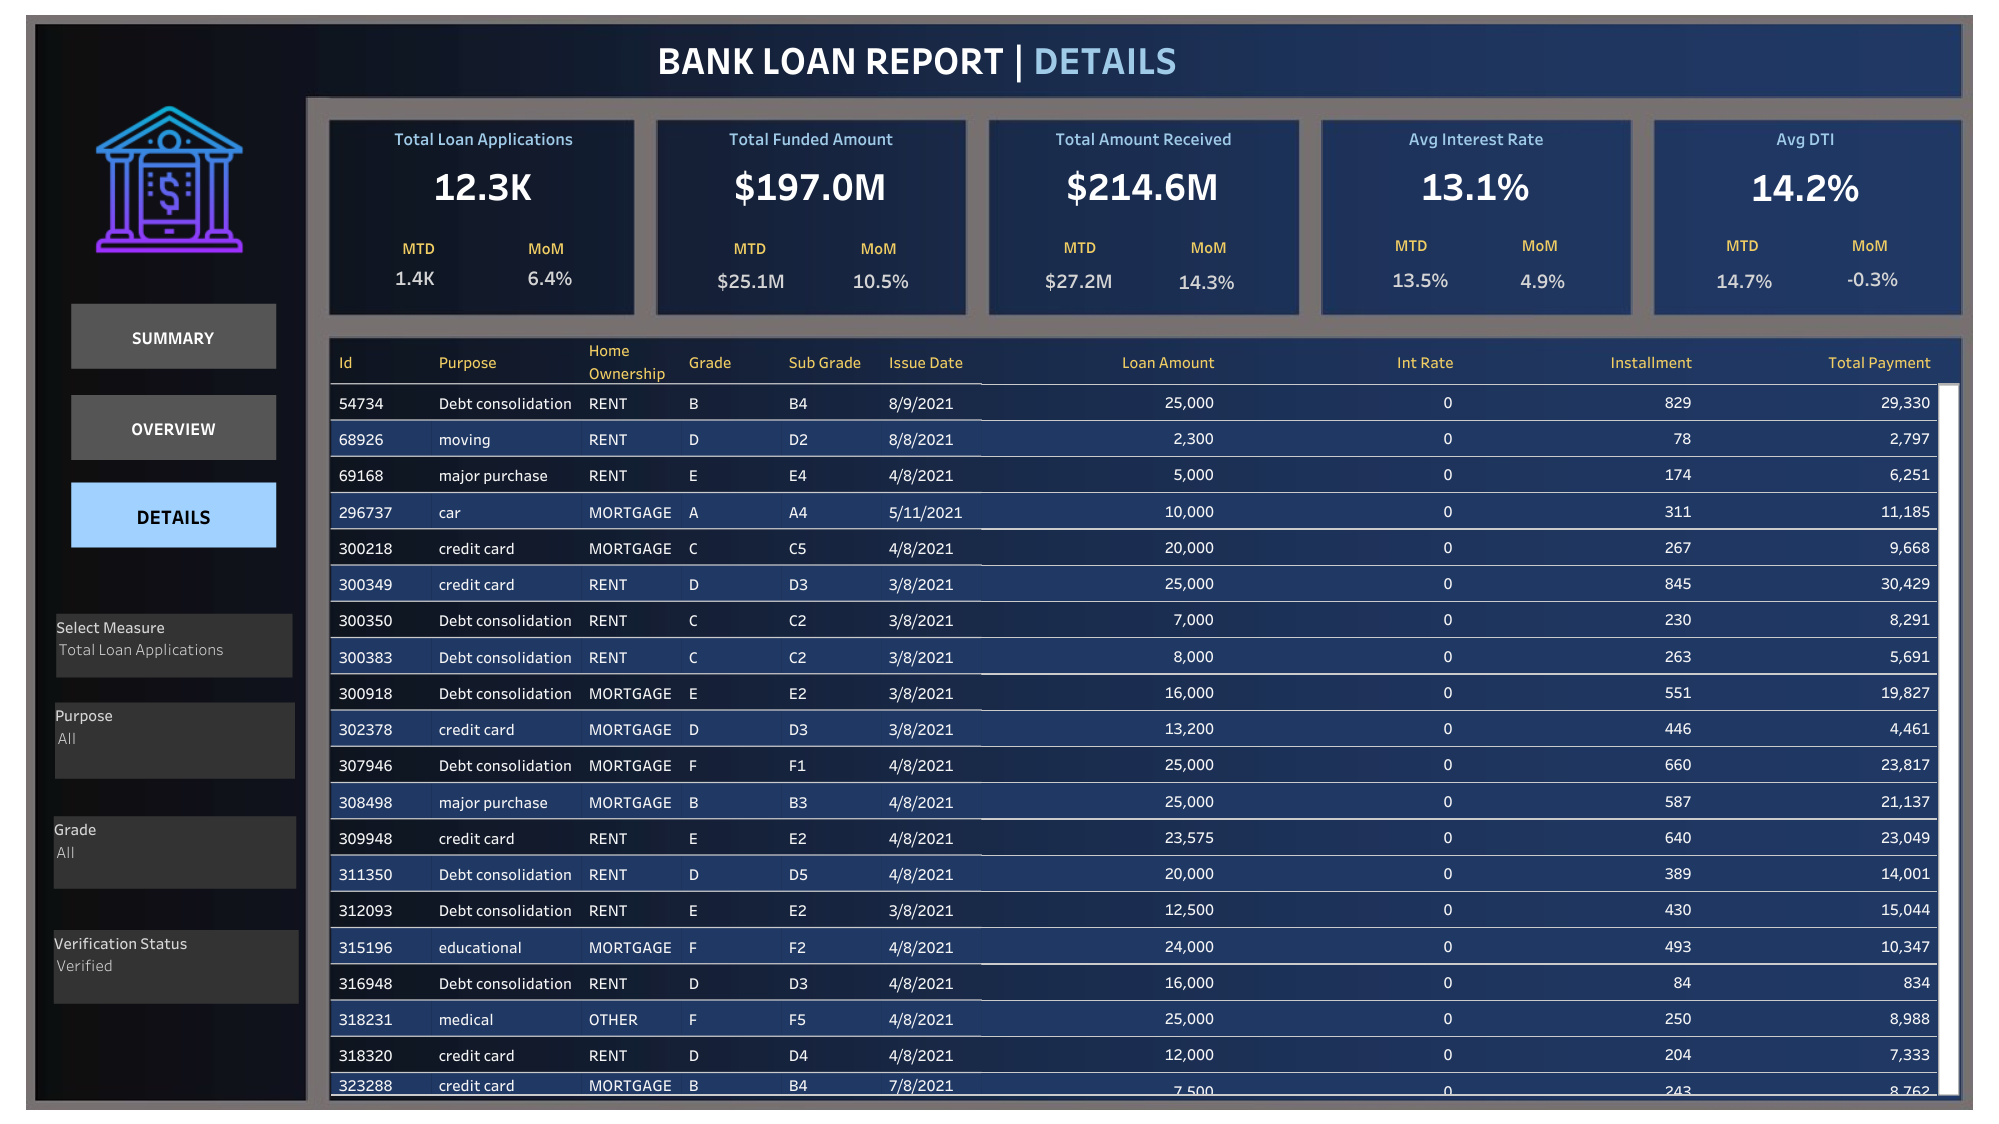

The dashboard page shown, as its layout file describes it:
{"tool":"tableau","page":{"name":"DETAILS","canvas":[1600,900],"ordinal":0},"visuals":[{"type":"image","param":"D:/Tableau/Bank Loan Report/Tableau Background 3.jpg","box":[8,8,1584,884]},{"type":"text","box":[523,20,584,54]},{"type":"image","param":"D:/Tableau/Bank Loan Report/online-banking.png","box":[71,83,130,121]},{"type":"worksheet","title":"Total Loan Applications","mark":"Automatic","box":[265,95,244,73]},{"type":"worksheet","title":"Total Funded Amount","mark":"Automatic","box":[527,95,244,73]},{"type":"worksheet","title":"Total Amount Received","mark":"Automatic","box":[792,95,246,73]},{"type":"worksheet","title":"Avg Interest Rate","mark":"Automatic","box":[1057,95,248,73]},{"type":"worksheet","title":"Avg DTI","mark":"Automatic","box":[1321,95,247,74]},{"type":"text","box":[1079,181,100,30]},{"type":"text","box":[1182,181,100,30]},{"type":"text","box":[1344,181,100,30]},{"type":"text","box":[1446,181,100,30]},{"type":"text","box":[814,182,100,30]},{"type":"text","box":[917,182,100,30]},{"type":"text","box":[285,183,100,30]},{"type":"text","box":[387,183,100,30]},{"type":"text","box":[550,183,100,30]},{"type":"text","box":[653,183,100,30]},{"type":"worksheet","title":"MTD Total Loan Applications","mark":"Automatic","box":[304,205,58,33]},{"type":"worksheet","title":"MoM Loan Applications","mark":"Automatic","box":[408,205,65,33]},{"type":"worksheet","title":"MTD Avg Interest Rate","mark":"Automatic","box":[1097,205,79,37]},{"type":"worksheet","title":"MoM Avg DTI","mark":"Automatic","box":[1465,205,67,36]},{"type":"worksheet","title":"MoM Avg Interest Rate","mark":"Automatic","box":[1199,206,70,36]},{"type":"worksheet","title":"MTD Avg DTI","mark":"Automatic","box":[1360,206,72,36]},{"type":"worksheet","title":"MTD Total Funded Amount","mark":"Automatic","box":[561,207,81,33]},{"type":"worksheet","title":"MoM Total Funded Amount","mark":"Automatic","box":[667,207,75,33]},{"type":"worksheet","title":"MTD Total Amount Received","mark":"Automatic","box":[824,208,80,31]},{"type":"worksheet","title":"MoM Total Amount Received","mark":"Automatic","box":[925,209,82,31]},{"type":"dashboard-object","box":[57,243,164,52]},{"type":"worksheet","title":"Details Tab","mark":"Automatic","rows":["id","purpose","home_ownership","grade","sub_grade","issue_date"],"box":[265,271,1303,606]},{"type":"dashboard-object","box":[57,316,164,52]},{"type":"dashboard-object","box":[57,386,164,52]},{"type":"parameter","param":"[Parameters].[Parameter 1]","box":[45,491,189,51]},{"type":"filter","title":"Avg DTI","param":"[federated.03xjj781i5n8ud12js5ev0tixsc8].[none:purpose:nk]","box":[44,562,192,61]},{"type":"filter","title":"Avg DTI","param":"[federated.03xjj781i5n8ud12js5ev0tixsc8].[none:grade:nk]","box":[43,653,194,58]},{"type":"filter","title":"Avg DTI","param":"[federated.03xjj781i5n8ud12js5ev0tixsc8].[none:verification_status:nk]","box":[43,744,196,59]}]}

Visuals, with their boxes in screenshot pixels (x1, y1, x2, y2), scaled from the page's 1600x900 canvas onto the 1999x1124 screenshot:
image: 10, 10, 1989, 1114
text: 653, 25, 1383, 92
image: 89, 104, 251, 255
"Total Loan Applications" worksheet: 331, 119, 636, 210
"Total Funded Amount" worksheet: 658, 119, 963, 210
"Total Amount Received" worksheet: 990, 119, 1297, 210
"Avg Interest Rate" worksheet: 1321, 119, 1630, 210
"Avg DTI" worksheet: 1650, 119, 1959, 211
text: 1348, 226, 1473, 264
text: 1477, 226, 1602, 264
text: 1679, 226, 1804, 264
text: 1807, 226, 1932, 264
text: 1017, 227, 1142, 265
text: 1146, 227, 1271, 265
text: 356, 229, 481, 266
text: 484, 229, 608, 266
text: 687, 229, 812, 266
text: 816, 229, 941, 266
"MTD Total Loan Applications" worksheet: 380, 256, 452, 297
"MoM Loan Applications" worksheet: 510, 256, 591, 297
"MTD Avg Interest Rate" worksheet: 1371, 256, 1469, 302
"MoM Avg DTI" worksheet: 1830, 256, 1914, 301
"MoM Avg Interest Rate" worksheet: 1498, 257, 1585, 302
"MTD Avg DTI" worksheet: 1699, 257, 1789, 302
"MTD Total Funded Amount" worksheet: 701, 259, 802, 300
"MoM Total Funded Amount" worksheet: 833, 259, 927, 300
"MTD Total Amount Received" worksheet: 1029, 260, 1129, 298
"MoM Total Amount Received" worksheet: 1156, 261, 1258, 300
dashboard-object: 71, 303, 276, 368
"Details Tab" worksheet: 331, 338, 1959, 1095
dashboard-object: 71, 395, 276, 460
dashboard-object: 71, 482, 276, 547
parameter: 56, 613, 292, 677
"Avg DTI" filter: 55, 702, 295, 778
"Avg DTI" filter: 54, 816, 296, 888
"Avg DTI" filter: 54, 929, 299, 1003
